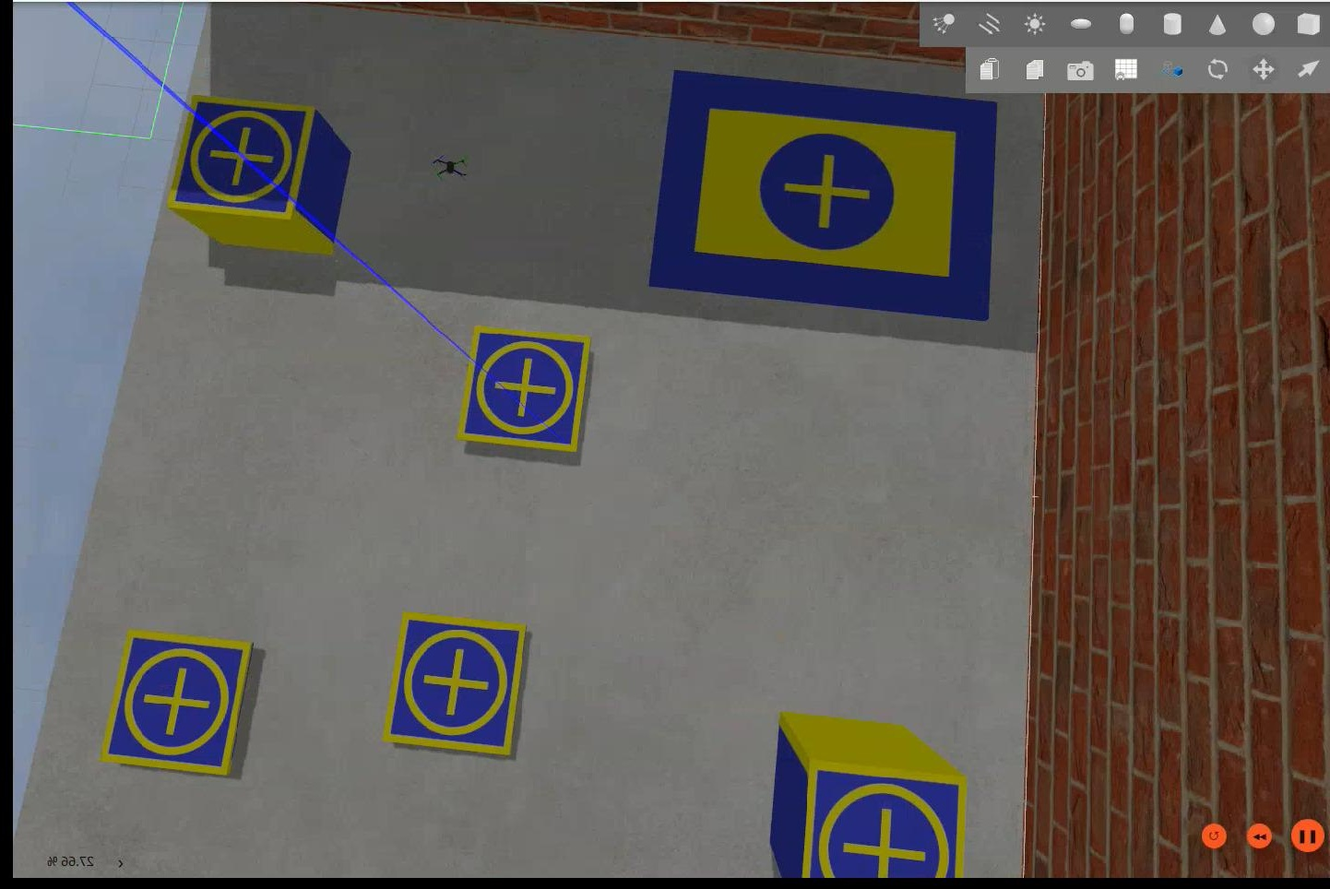large_base: (643, 74, 996, 326)
small_base: (98, 627, 255, 780), (379, 612, 526, 762), (794, 757, 966, 879), (161, 97, 317, 225), (455, 325, 593, 461)
